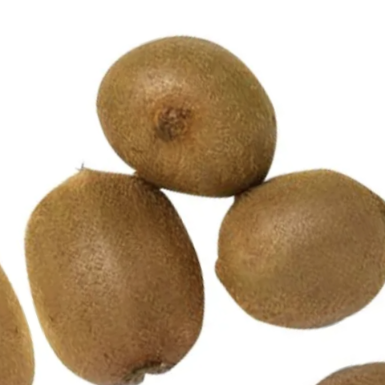kiwi: (0, 124, 245, 385), (63, 0, 318, 248), (183, 145, 385, 377)
